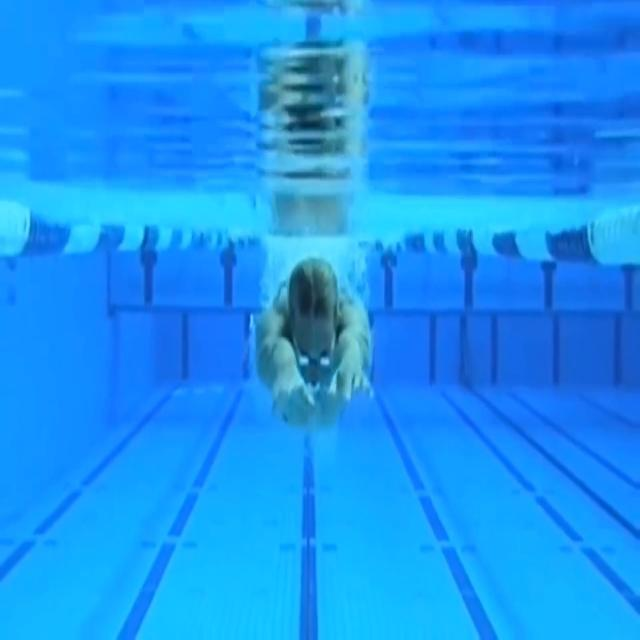Swimming: (254, 258, 378, 426)
